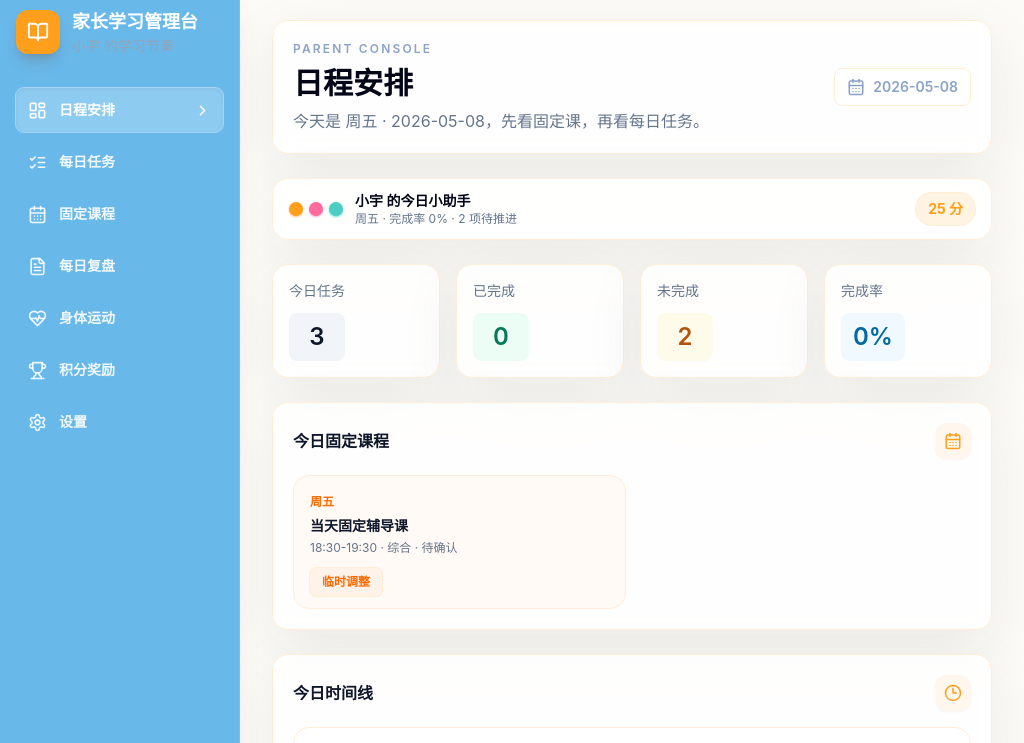
Test case: App › redeems a parent configured reward with points
The width and height of the screenshot is (1024, 743).
Click the button "积分奖励" at (120, 370), box [16,348,223,392]
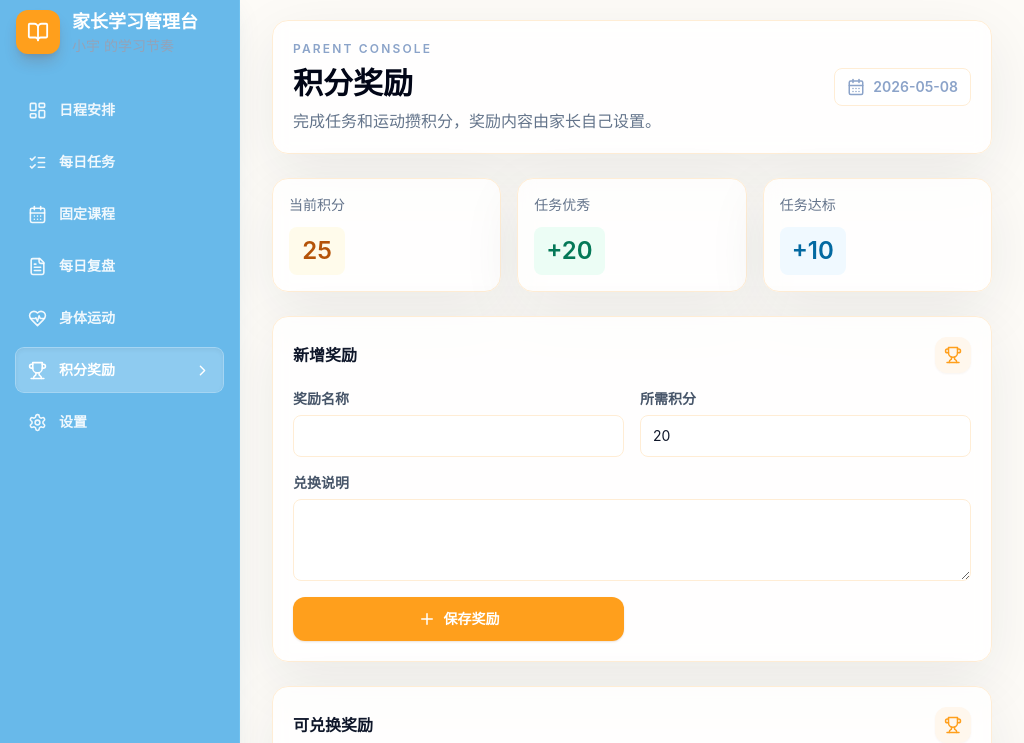
Type "周末电影" into the field labelled "奖励名称" at (458, 436), box [293,415,624,457]
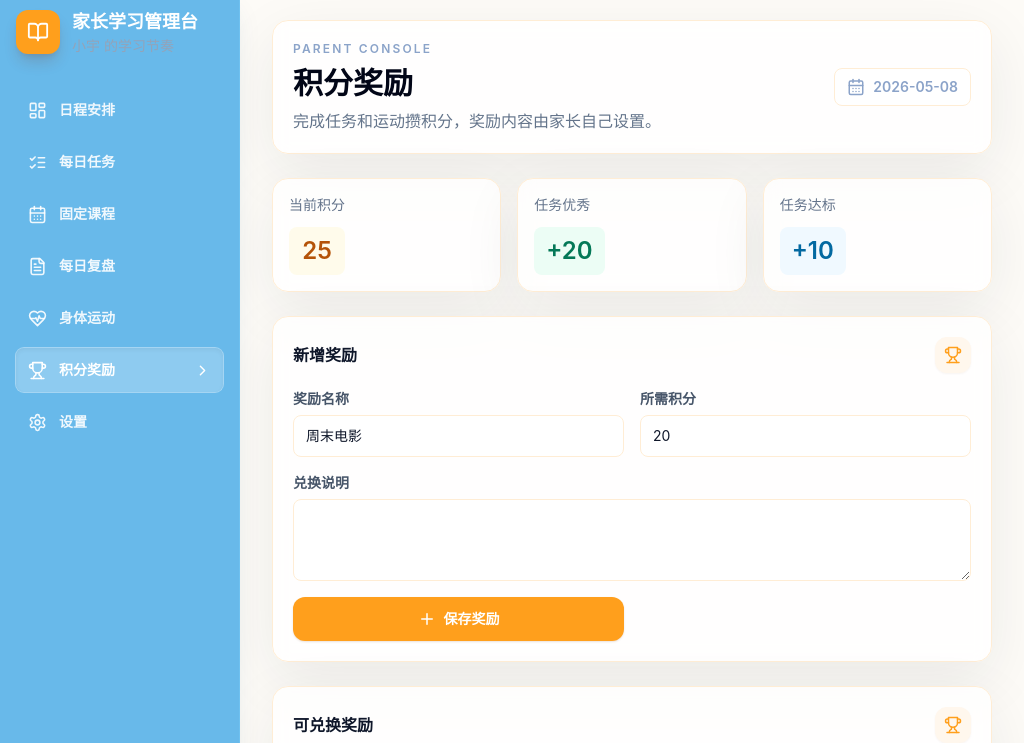
Replace the text in the number field labelled "所需积分" with "10" at (806, 436), box [640,415,971,457]
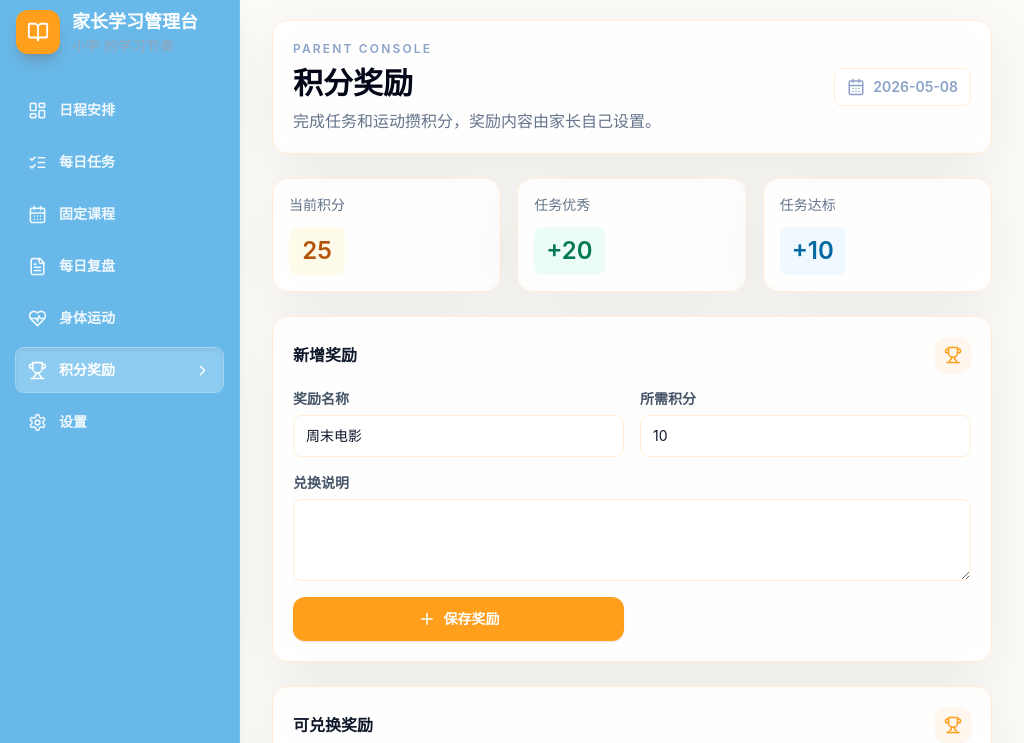
Click the button "保存奖励" at (458, 619), box [293,597,624,641]
(page scrolled)
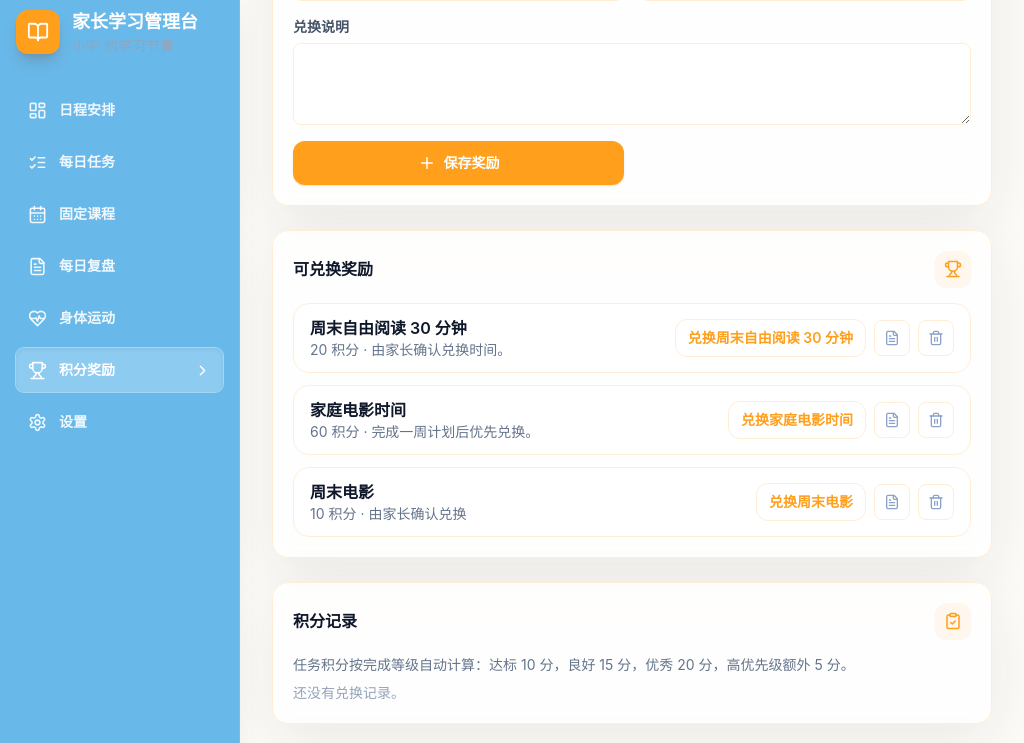
Click the button "兑换周末电影" at (811, 502), box [756,483,866,521]
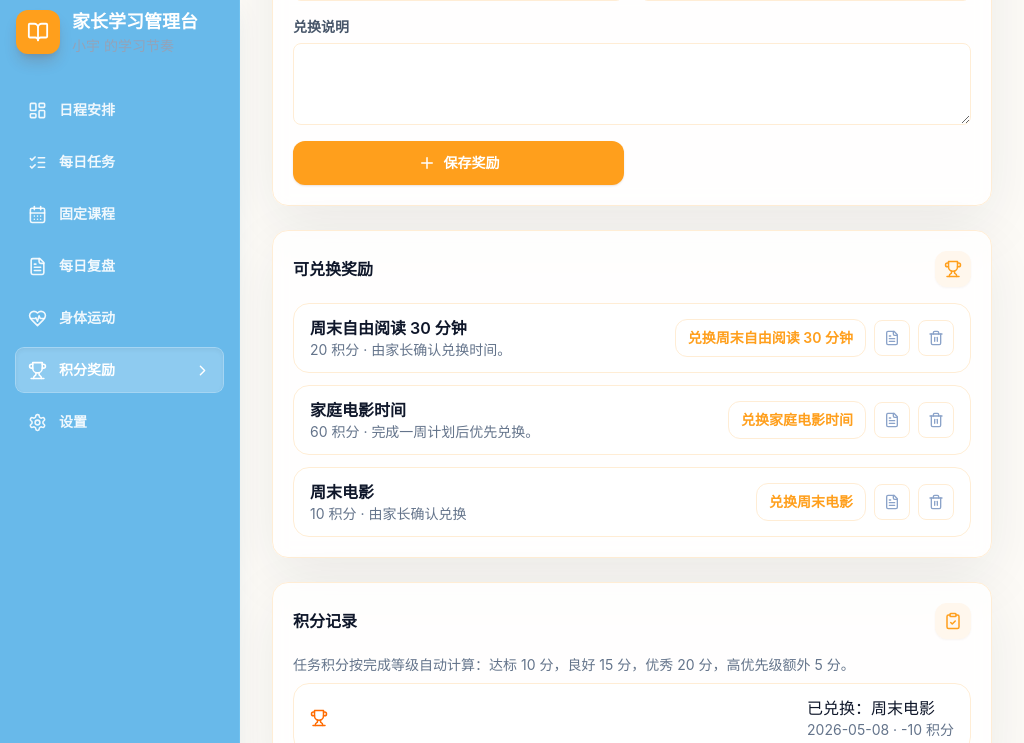
Result: the text "已兑换：周末电影" is shown at [807,696,954,720]
